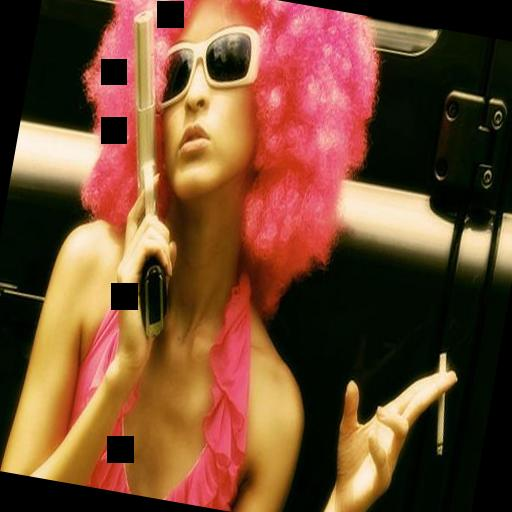Handgun: (78, 5, 217, 336)
